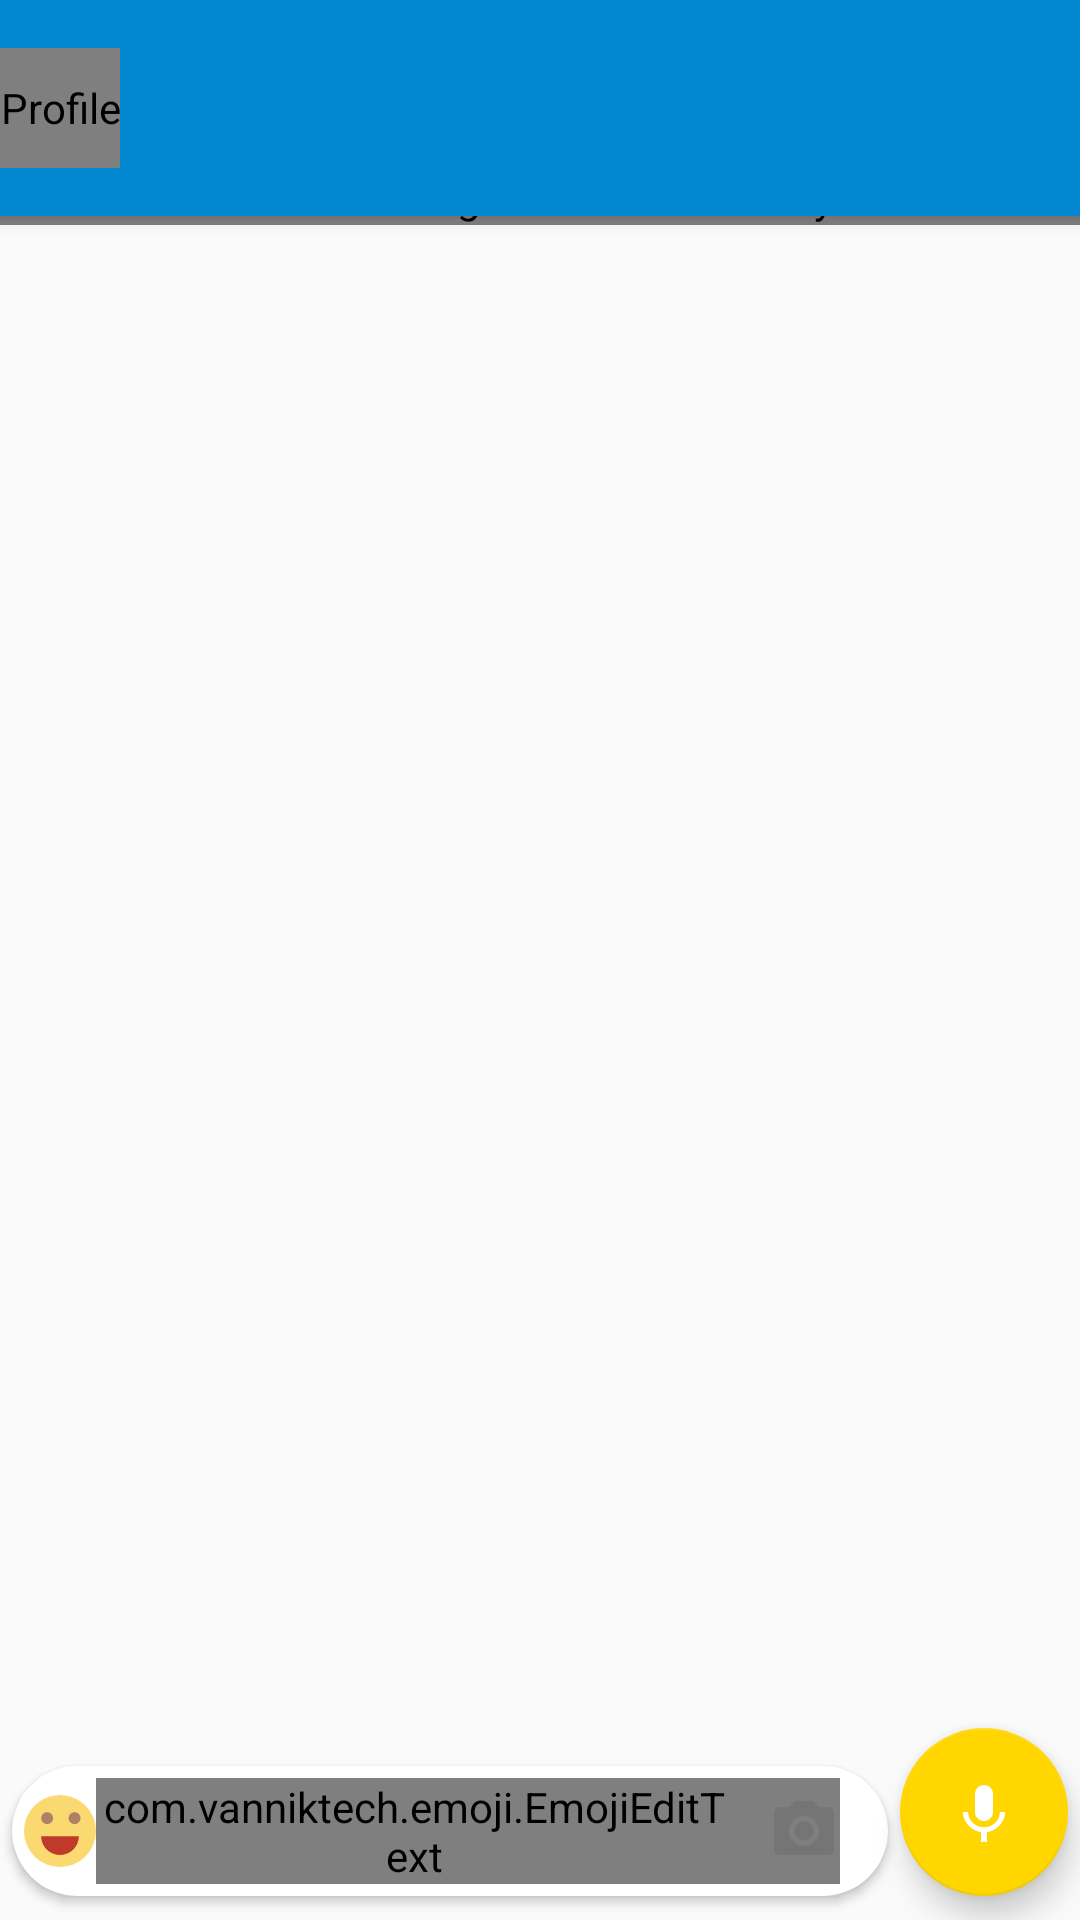

Point at icon controls on the screen. Image size 1080px x 1920px, points as (x=x, y=y).
keyboard voice: (x=984, y=1812)
